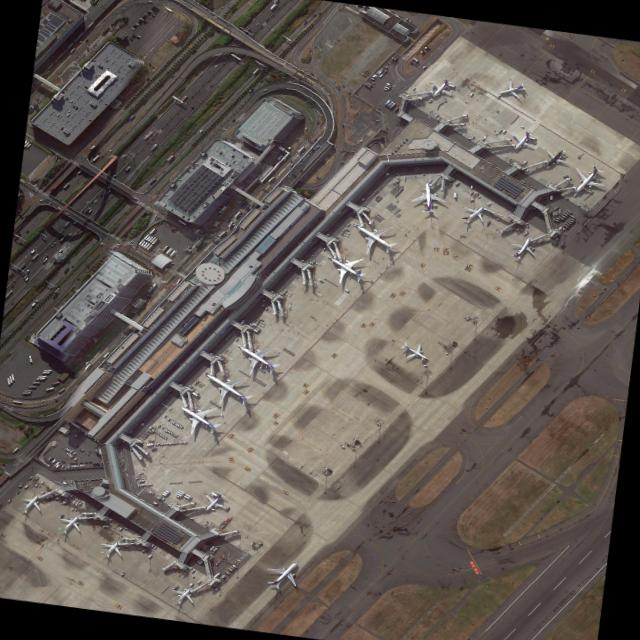large-vehicle: (143, 130, 154, 140), (90, 154, 101, 163), (269, 3, 278, 12), (148, 177, 157, 185), (166, 154, 175, 162), (150, 143, 159, 151), (17, 263, 26, 271), (13, 232, 22, 240), (30, 299, 39, 307), (30, 253, 39, 261), (22, 269, 30, 277), (268, 175, 276, 183), (149, 236, 157, 244), (148, 228, 157, 235), (62, 221, 70, 228), (76, 168, 84, 175), (128, 114, 136, 121), (180, 95, 188, 102), (252, 68, 260, 75), (6, 272, 14, 279), (84, 363, 92, 370), (62, 182, 70, 189), (169, 249, 176, 257), (165, 247, 173, 254), (161, 245, 169, 252), (151, 238, 159, 245), (297, 146, 305, 153), (234, 211, 242, 218), (118, 154, 126, 161), (146, 244, 154, 251), (73, 218, 80, 225), (84, 206, 91, 213), (248, 87, 255, 94), (23, 141, 30, 148), (142, 241, 149, 248), (210, 491, 218, 497), (102, 352, 110, 358), (58, 387, 66, 393), (218, 231, 226, 237), (43, 70, 51, 76), (105, 189, 112, 195), (107, 184, 114, 190), (125, 165, 131, 172), (89, 145, 96, 151), (57, 206, 64, 212), (23, 273, 30, 279), (42, 257, 49, 263), (50, 242, 57, 248), (228, 221, 234, 228), (147, 236, 154, 242), (145, 235, 152, 241), (143, 234, 150, 240), (138, 239, 145, 245), (140, 240, 146, 247), (144, 243, 151, 249), (69, 48, 76, 54), (51, 381, 61, 385), (45, 387, 55, 391), (64, 267, 70, 273), (24, 212, 30, 218), (24, 276, 30, 282), (30, 249, 36, 255), (13, 400, 22, 404), (22, 140, 28, 146), (26, 143, 32, 149), (164, 489, 171, 494), (94, 151, 101, 156), (178, 489, 185, 494), (183, 495, 190, 500), (185, 493, 192, 498), (152, 501, 159, 506), (177, 491, 184, 496), (175, 492, 182, 497), (54, 288, 61, 293), (231, 564, 238, 569), (35, 80, 42, 85), (11, 373, 15, 381), (87, 208, 93, 213), (55, 463, 61, 468), (174, 494, 180, 499), (384, 85, 390, 90), (210, 508, 217, 512), (29, 356, 33, 363), (7, 378, 11, 385), (9, 376, 13, 383), (43, 369, 52, 372), (48, 456, 53, 461), (24, 484, 29, 489), (55, 461, 60, 466), (255, 22, 260, 27), (469, 92, 474, 97), (404, 17, 409, 22), (161, 493, 167, 497), (51, 459, 57, 463), (273, 0, 279, 4), (257, 541, 263, 545), (385, 84, 391, 88), (373, 74, 379, 78), (163, 491, 168, 495), (199, 129, 204, 133), (386, 82, 391, 86), (253, 546, 258, 550), (255, 544, 260, 548), (411, 87, 416, 91), (422, 65, 427, 69), (377, 70, 382, 74), (376, 71, 381, 75), (78, 40, 83, 44), (38, 376, 47, 378), (37, 378, 46, 380), (32, 382, 41, 384), (28, 386, 37, 388), (22, 392, 31, 394), (42, 372, 50, 374), (24, 390, 32, 392), (247, 1, 251, 5), (249, 2, 253, 6), (409, 19, 413, 23), (235, 337, 239, 341), (383, 88, 388, 91), (257, 543, 261, 546)
plane: (222, 328, 293, 384), (194, 358, 265, 413), (166, 391, 232, 443), (345, 210, 407, 263), (314, 245, 379, 294), (258, 551, 312, 596), (560, 157, 612, 202), (499, 230, 544, 266), (405, 181, 451, 215), (452, 196, 497, 230), (393, 334, 435, 367), (536, 139, 575, 173), (505, 121, 545, 154), (51, 507, 91, 539), (12, 489, 50, 520), (196, 486, 233, 517), (424, 72, 461, 103), (94, 532, 132, 562), (165, 579, 203, 609), (492, 80, 533, 105)
small-vehicle: (190, 105, 196, 110), (208, 83, 214, 88), (40, 480, 45, 485), (34, 483, 39, 488), (93, 199, 98, 204), (169, 207, 174, 212), (186, 217, 191, 222), (189, 517, 195, 521), (116, 243, 122, 247), (8, 290, 14, 294), (1, 296, 7, 300), (321, 247, 327, 251), (177, 178, 183, 182), (68, 453, 73, 457), (108, 149, 113, 153), (59, 238, 64, 242), (68, 232, 73, 236), (25, 230, 30, 234), (49, 202, 54, 206), (58, 197, 63, 201), (172, 421, 177, 425), (54, 399, 59, 403), (163, 427, 168, 431), (174, 434, 179, 438), (5, 293, 10, 297), (98, 291, 103, 295), (88, 296, 93, 300), (163, 414, 168, 418), (167, 417, 172, 421), (313, 13, 318, 17), (263, 88, 268, 92), (216, 240, 221, 244), (295, 275, 300, 279), (231, 159, 236, 163), (194, 162, 199, 166), (181, 215, 186, 219), (192, 215, 197, 219), (162, 203, 167, 207), (164, 193, 169, 197), (186, 169, 191, 173), (190, 165, 195, 169), (31, 85, 36, 89), (197, 210, 203, 213), (74, 457, 78, 461), (161, 497, 165, 501), (73, 451, 77, 455), (61, 464, 65, 468), (133, 163, 137, 167), (67, 259, 71, 263), (71, 265, 75, 269), (100, 242, 104, 246), (71, 507, 75, 511), (64, 234, 68, 238), (86, 201, 90, 205), (170, 431, 174, 435), (171, 420, 175, 424), (74, 434, 78, 438), (161, 425, 165, 429), (168, 430, 172, 434), (171, 432, 175, 436), (177, 424, 181, 428), (173, 433, 177, 437), (157, 431, 161, 435), (158, 432, 162, 436), (159, 433, 163, 437), (161, 434, 165, 438), (162, 435, 166, 439), (104, 287, 108, 291), (100, 292, 104, 296), (220, 413, 224, 417), (169, 419, 173, 423), (327, 92, 331, 96), (304, 127, 308, 131), (317, 144, 321, 148), (290, 162, 294, 166), (235, 229, 239, 233), (310, 254, 314, 258), (262, 299, 266, 303), (264, 307, 268, 311), (152, 13, 156, 17), (241, 165, 245, 169), (224, 161, 228, 165), (242, 154, 246, 158), (68, 109, 72, 113), (70, 99, 74, 103), (66, 97, 70, 101), (29, 315, 33, 319), (147, 12, 151, 16), (139, 19, 143, 23), (214, 65, 218, 69), (82, 69, 86, 73), (80, 71, 84, 75), (56, 59, 60, 63), (85, 39, 89, 43), (66, 448, 71, 451), (17, 485, 22, 488), (10, 285, 15, 288), (65, 212, 70, 215), (40, 400, 45, 403), (213, 16, 218, 19), (246, 309, 251, 312), (467, 137, 472, 140), (154, 11, 159, 14), (231, 155, 236, 158), (260, 187, 265, 190), (246, 160, 251, 163), (65, 147, 70, 150), (192, 164, 197, 167), (149, 10, 154, 13), (143, 14, 148, 17), (137, 22, 142, 25), (135, 23, 140, 26), (134, 24, 139, 27), (133, 25, 138, 28), (132, 26, 137, 29), (131, 27, 136, 30), (149, 16, 154, 19), (64, 88, 69, 91), (185, 440, 188, 444), (65, 447, 69, 450), (70, 455, 74, 458), (65, 452, 69, 455), (141, 483, 144, 487), (146, 482, 149, 486), (151, 492, 155, 495), (148, 490, 152, 493), (149, 491, 153, 494), (20, 483, 24, 486), (68, 449, 72, 452), (70, 450, 74, 453), (67, 465, 71, 468), (19, 484, 23, 487), (62, 236, 66, 239), (84, 270, 88, 273), (39, 199, 43, 202), (174, 422, 178, 425), (165, 429, 169, 432), (166, 430, 170, 433), (154, 430, 158, 433), (155, 431, 159, 434), (164, 436, 168, 439), (178, 425, 182, 428), (180, 426, 184, 429), (97, 295, 101, 298), (220, 6, 224, 9), (496, 218, 500, 221), (248, 307, 252, 310), (326, 101, 329, 105), (232, 119, 235, 123), (250, 305, 254, 308), (233, 226, 237, 229), (232, 223, 236, 226), (261, 304, 265, 307), (153, 12, 157, 15), (228, 164, 232, 167), (244, 156, 248, 159), (35, 123, 39, 126), (57, 113, 60, 117), (67, 113, 71, 116), (88, 118, 92, 121), (72, 105, 76, 108), (75, 107, 79, 110), (238, 169, 242, 172), (104, 102, 108, 105), (61, 91, 65, 94), (151, 15, 155, 18), (140, 18, 144, 21), (153, 7, 157, 10), (152, 8, 156, 11), (151, 9, 155, 12), (148, 11, 152, 14), (145, 13, 149, 16), (143, 15, 147, 18), (141, 17, 145, 20), (137, 35, 141, 38), (138, 21, 142, 24), (143, 22, 147, 25), (130, 28, 134, 31), (136, 37, 140, 40), (95, 75, 99, 78), (171, 75, 175, 78), (147, 78, 151, 81), (117, 70, 121, 73), (105, 59, 109, 62), (92, 59, 96, 62), (78, 74, 82, 77), (97, 73, 101, 76), (133, 35, 137, 38), (130, 38, 134, 41), (67, 453, 70, 456), (137, 484, 140, 487), (163, 442, 166, 445), (181, 441, 184, 444), (179, 441, 182, 444), (176, 441, 179, 444), (165, 442, 168, 445), (82, 464, 85, 467), (156, 443, 159, 446), (71, 465, 74, 468), (38, 484, 41, 487), (74, 508, 77, 511), (154, 443, 157, 446), (96, 463, 99, 466), (145, 443, 148, 446), (176, 423, 179, 426), (114, 291, 117, 294), (337, 87, 340, 90), (323, 93, 326, 96), (320, 89, 323, 92), (311, 82, 314, 85), (304, 78, 307, 81), (193, 19, 196, 22), (194, 27, 197, 30), (342, 125, 345, 128), (290, 160, 293, 163), (64, 133, 67, 136), (51, 55, 54, 58), (132, 36, 135, 39), (149, 482, 151, 486), (174, 441, 176, 445), (313, 84, 317, 86), (148, 1, 152, 3), (95, 463, 97, 467), (144, 21, 148, 23), (98, 463, 100, 466), (140, 484, 142, 487), (143, 483, 145, 486), (145, 483, 147, 486), (151, 482, 153, 485), (178, 441, 180, 444), (172, 442, 174, 445), (171, 442, 173, 445), (169, 442, 171, 445), (167, 442, 169, 445), (162, 442, 164, 445), (160, 443, 162, 446), (95, 449, 97, 452), (73, 465, 75, 468), (75, 465, 77, 468), (77, 465, 79, 468), (80, 464, 82, 467), (183, 441, 185, 444), (322, 91, 324, 94), (318, 88, 321, 90), (316, 86, 319, 88), (309, 81, 311, 84), (306, 80, 309, 82), (301, 77, 304, 79), (93, 463, 95, 466), (194, 22, 196, 24), (194, 25, 196, 27), (92, 0, 96, 1)
